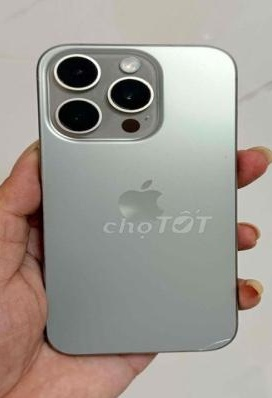physical_damage: (191, 328, 236, 357)
